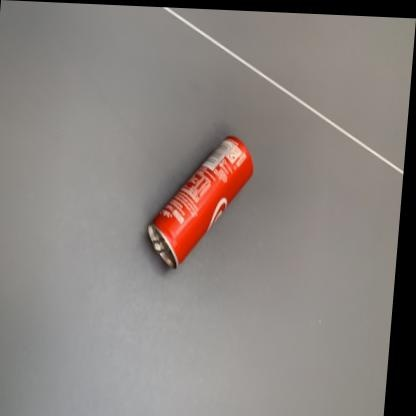trash: (147, 136, 252, 267)
